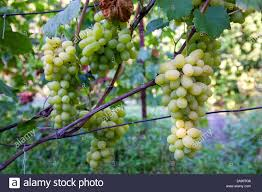grapes: (156, 48, 217, 157), (38, 37, 81, 131), (85, 23, 144, 75), (88, 104, 128, 170)
